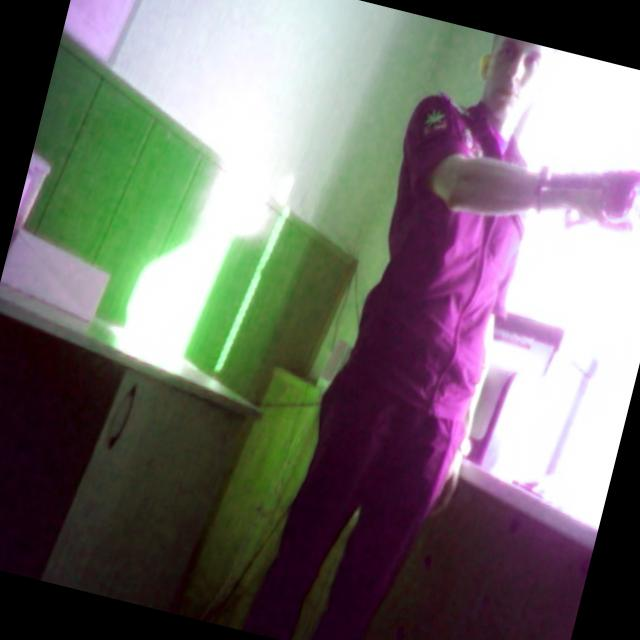drone: (517, 124, 640, 249)
